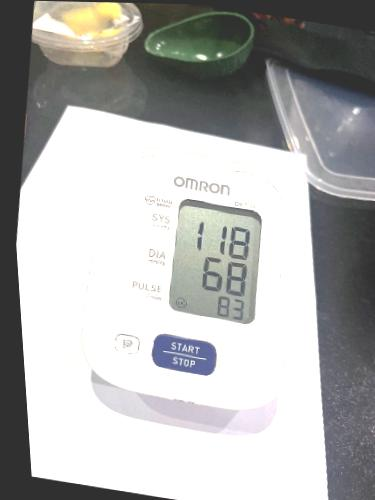bpm: (164, 195, 265, 328)
